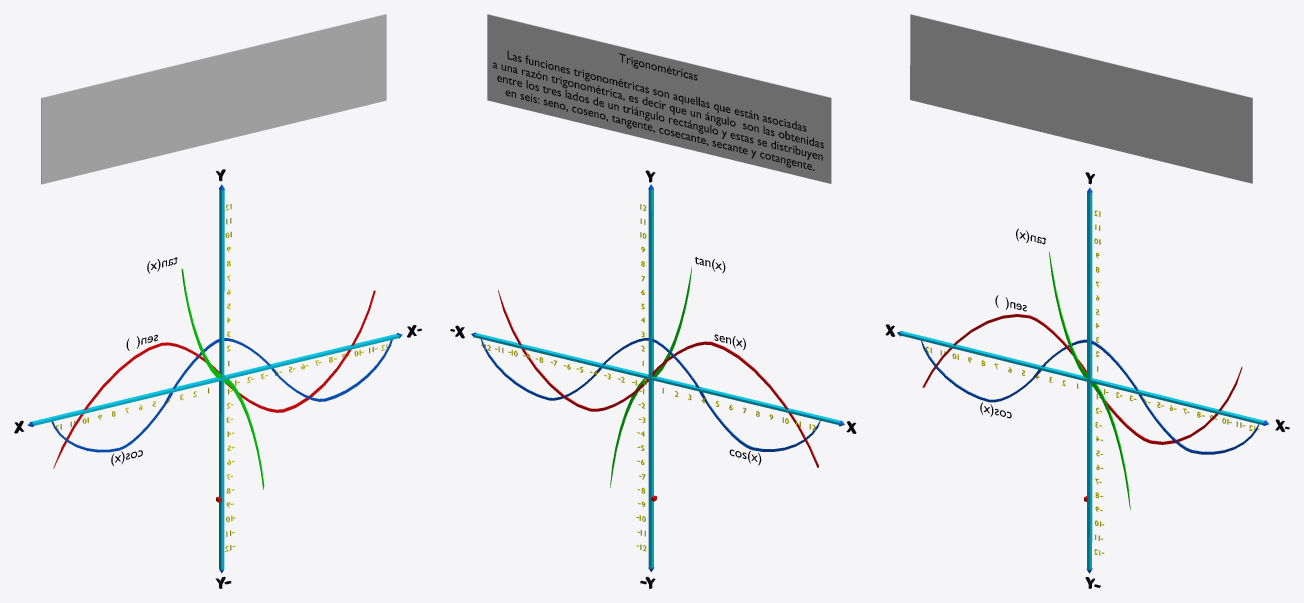
Rendered from tras-f-trigonometricas.fbx.
3 renders of one model, left to right at view 1: azimuth 30°, elevation 25°; view 2: azimuth 150°, elevation 25°; view 3: azimuth 330°, elevation 25°, orthographic.
Visible parts, largest first — view 1: Cubo.005, Cubo.001, Cubo, Surface.007, Surface.001, Surface.003; view 2: Cubo.005, Text.025, Cubo.001, Cubo, Surface.001, Surface.003, Surface.007; view 3: Cubo.005, Cubo.001, Cubo, Surface.007, Surface.001, Surface.003.
Part boxes in pixels (box(x1,y1,x2,y2)): Cubo.005: box(41, 14, 386, 184); Cubo.001: box(219, 189, 224, 569); Cubo: box(30, 334, 399, 425); Surface.007: box(181, 268, 264, 489); Surface.001: box(53, 342, 220, 468); Surface.003: box(226, 290, 375, 412); Cubo.005: box(487, 14, 831, 183); Text.025: box(493, 51, 823, 170); Cubo.001: box(648, 189, 653, 568); Cubo: box(474, 333, 842, 424); Surface.001: box(642, 341, 818, 467); Surface.003: box(498, 290, 658, 411); Surface.007: box(610, 266, 691, 487); Cubo.005: box(910, 14, 1252, 183); Cubo.001: box(1087, 193, 1092, 570); Cubo: box(899, 331, 1264, 424); Surface.007: box(1049, 251, 1130, 510); Surface.001: box(922, 314, 1086, 387); Surface.003: box(1094, 367, 1242, 444).
Bounding box in the file's own units: 599 × 754 × 8.65.
